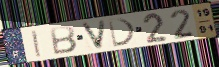2: (142, 11, 170, 45), (169, 9, 196, 41)
B: (49, 24, 79, 56)
D: (107, 17, 138, 49)
I: (30, 28, 43, 58)
V: (79, 19, 108, 51)
